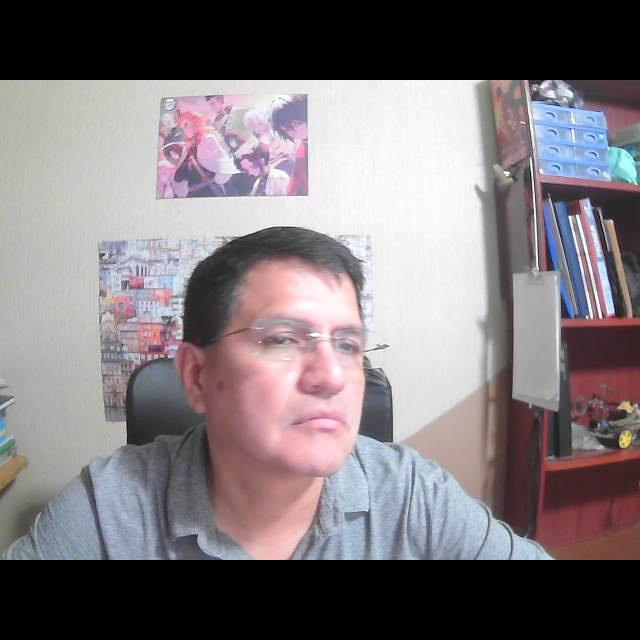cesar: (162, 209, 402, 513)
